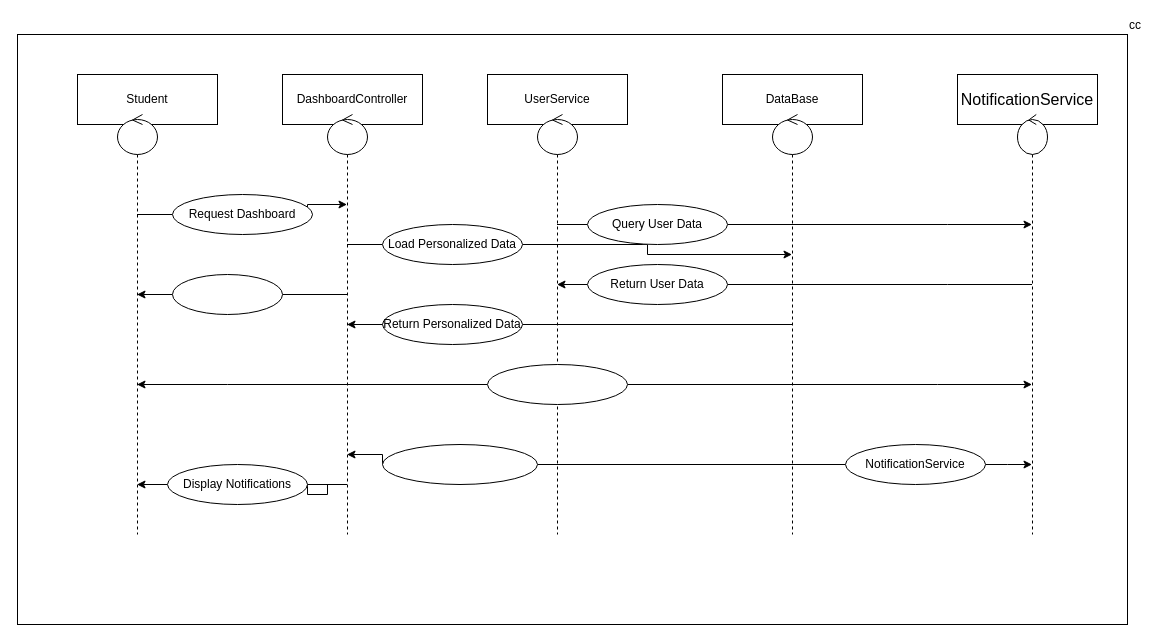
Some shapes in this 1159 by 642 pixel diagram are drawn without their labels. Here are the shapes that lost their labels. From the top down, the centre of each, then its label:
At pixel 227 294: "Display Dashboard".
At pixel 557 384: "opt Receive Notifications".
At pixel 460 464: "Send Notifications".
